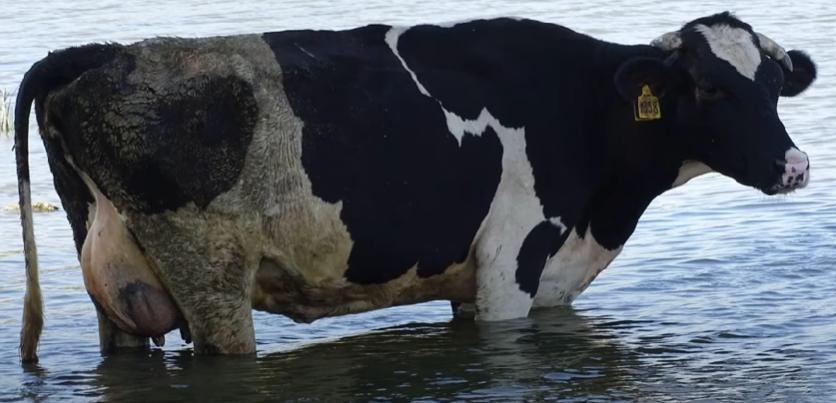cow: (15, 12, 817, 373)
